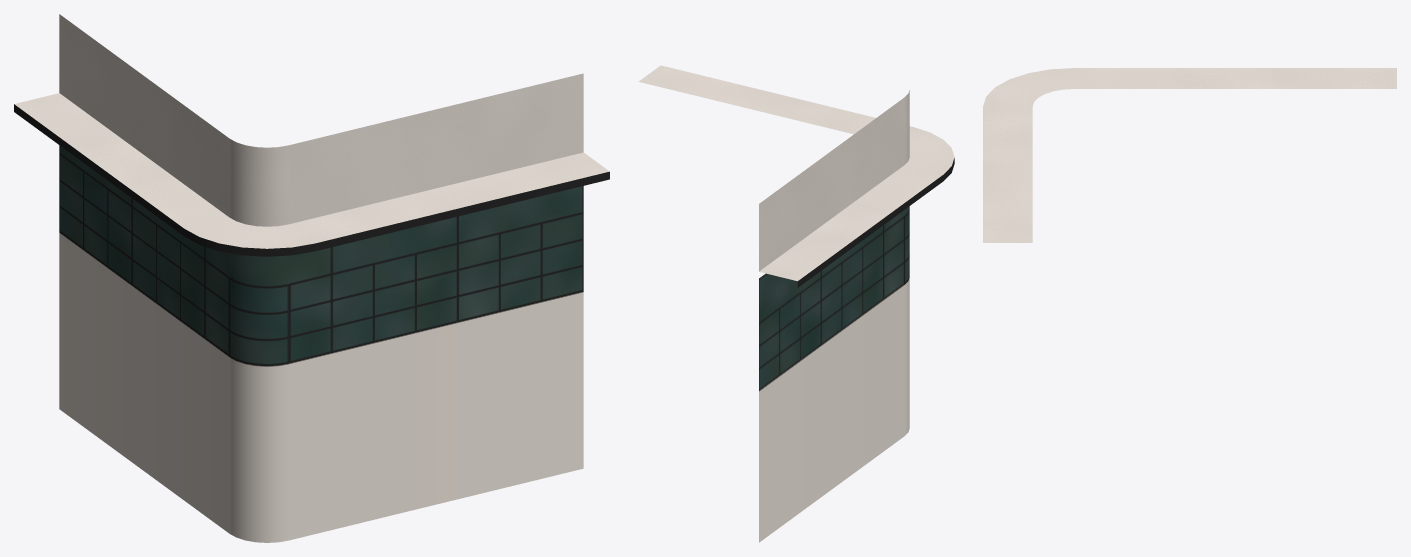
Rendered from corner.gltf.
3 views of the same model, side by side, from view 1: azimuth 30°, elevation 25°; view 2: azimuth 150°, elevation 25°; view 3: azimuth 270°, elevation 25° (orthographic). The views are drawn at different scales.
Visible parts, largest first — view 1: corner; view 2: corner; view 3: corner.
Boxes of the visible parts, <box> form: corner: <box>14,14,609,542</box>; corner: <box>638,65,954,542</box>; corner: <box>983,68,1396,242</box>.
Bounding box in the file's own units: 5 × 5 × 5.
Materials: 3 (2 with a texture image).
